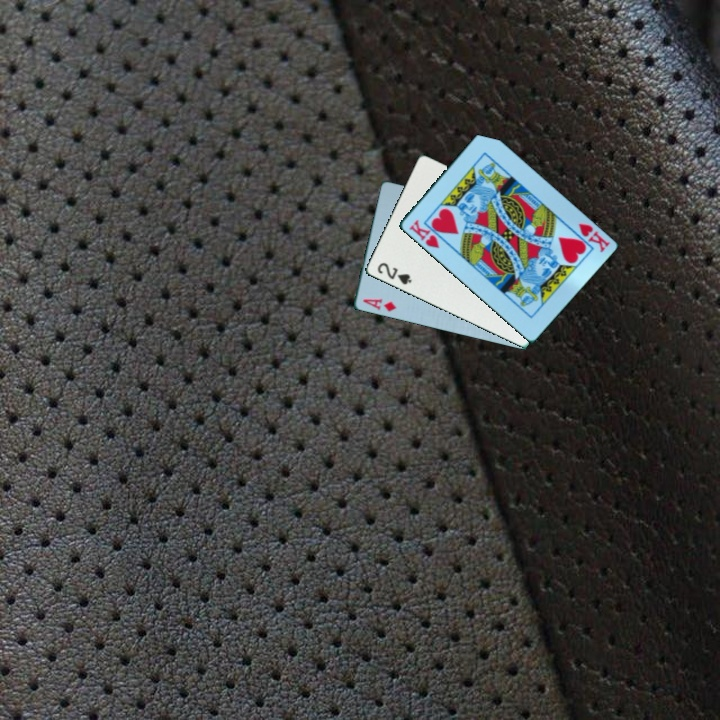2s: (373, 259, 415, 288)
Ad: (359, 295, 399, 315)
Kh: (574, 220, 612, 256), (405, 216, 442, 251)
